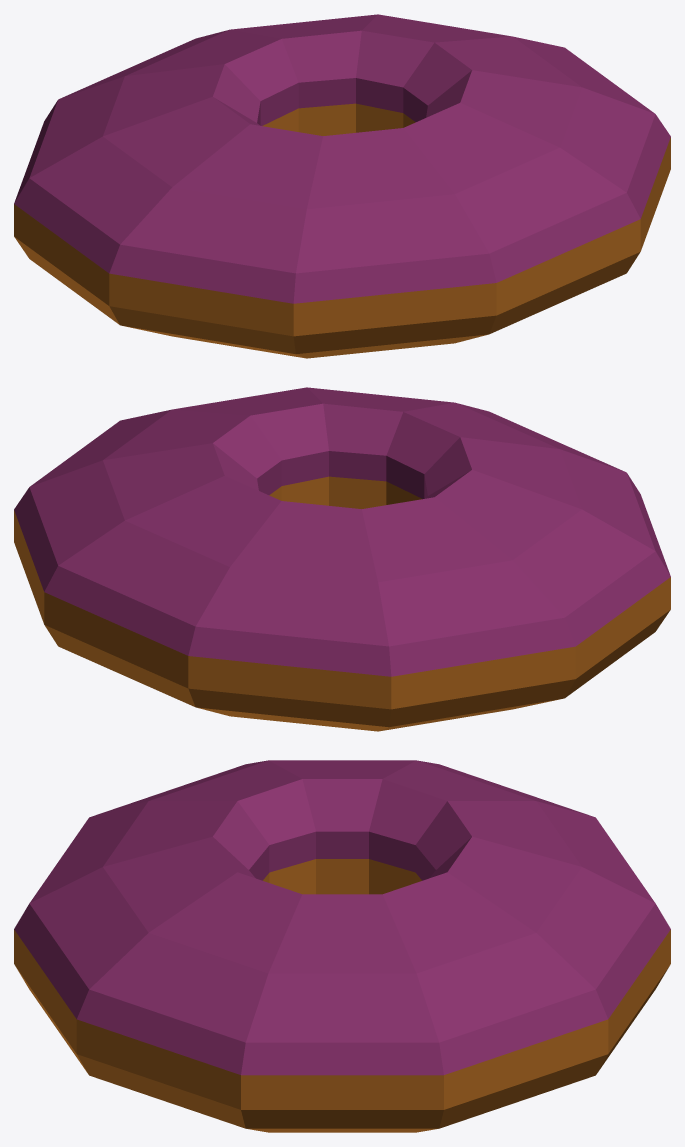
File: Item_DonutPink.fbx
The picture shows the model from 3 angles, top to bottom: view 1: azimuth 30°, elevation 25°; view 2: azimuth 150°, elevation 25°; view 3: azimuth 270°, elevation 25°; orthographic projection. The views are drawn at different scales.
Visible parts, largest first — view 1: Sphere; view 2: Sphere; view 3: Sphere.
Part boxes in pixels (x1,y1,x2,y2): Sphere: [14, 14, 670, 358]; Sphere: [14, 387, 670, 731]; Sphere: [14, 760, 670, 1132].
Bounding box in the file's own units: 190 × 64.95 × 181.
